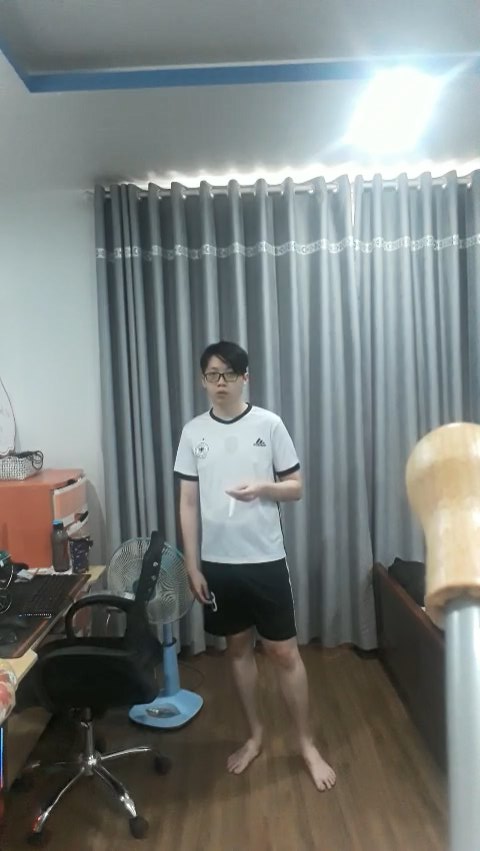cigarette: (227, 496, 238, 521)
person: (155, 333, 346, 805)
